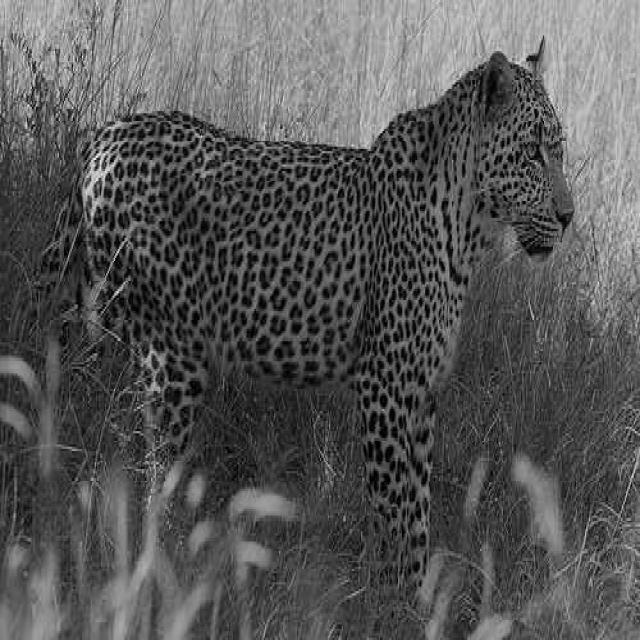Leopard: (68, 83, 514, 519)
